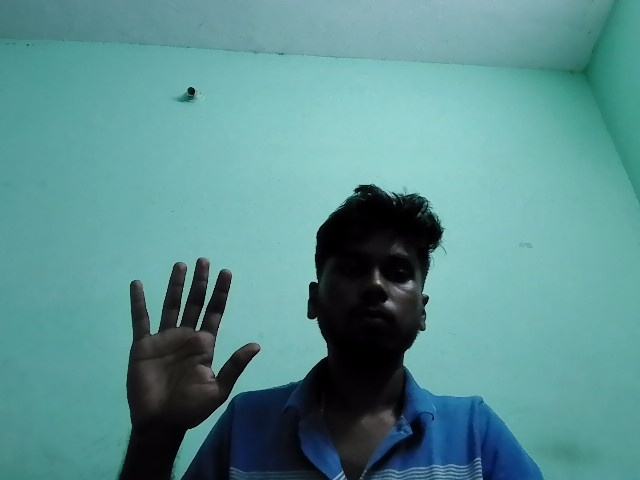Hello: (102, 247, 273, 433)
